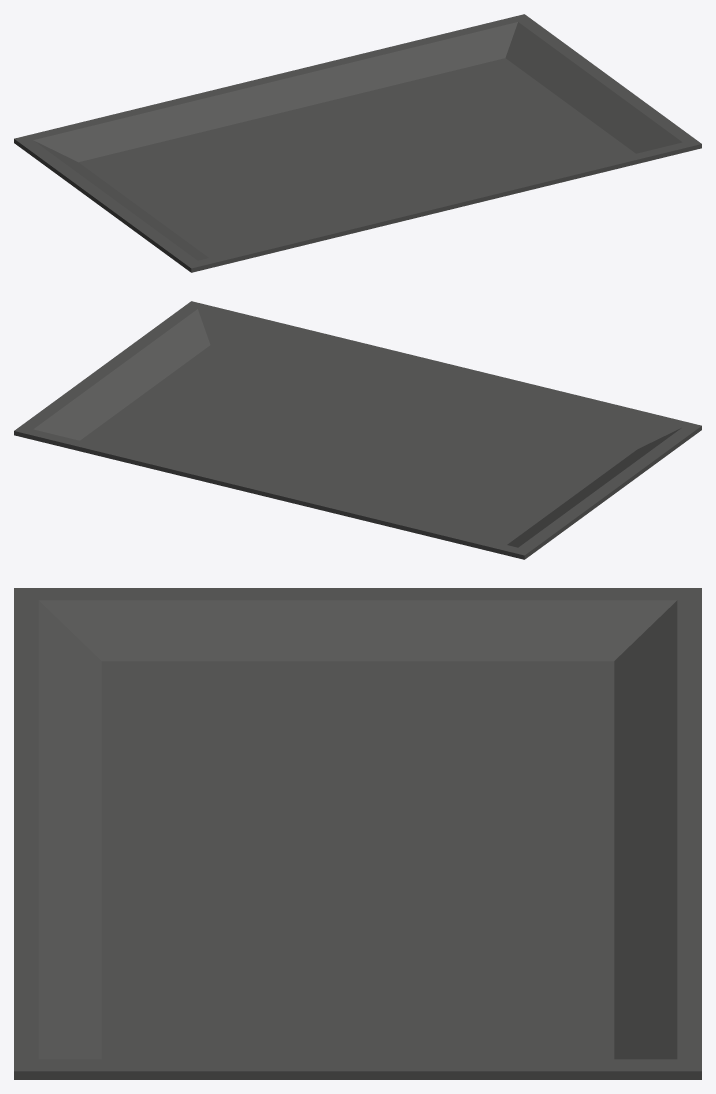
The model's file is _ven_Tray.fbx.
3 renders of one model, top to bottom at view 1: azimuth 30°, elevation 25°; view 2: azimuth 150°, elevation 25°; view 3: azimuth 270°, elevation 25°, orthographic. The views are drawn at different scales.
Visible parts, largest first — view 1: Cube.182; view 2: Cube.182; view 3: Cube.182.
Boxes of the visible parts, <box> form: Cube.182: <box>14,14,701,272</box>; Cube.182: <box>14,301,701,559</box>; Cube.182: <box>14,588,701,1079</box>.
Bounding box in the file's own units: 84.64 × 3.42 × 50.93.
